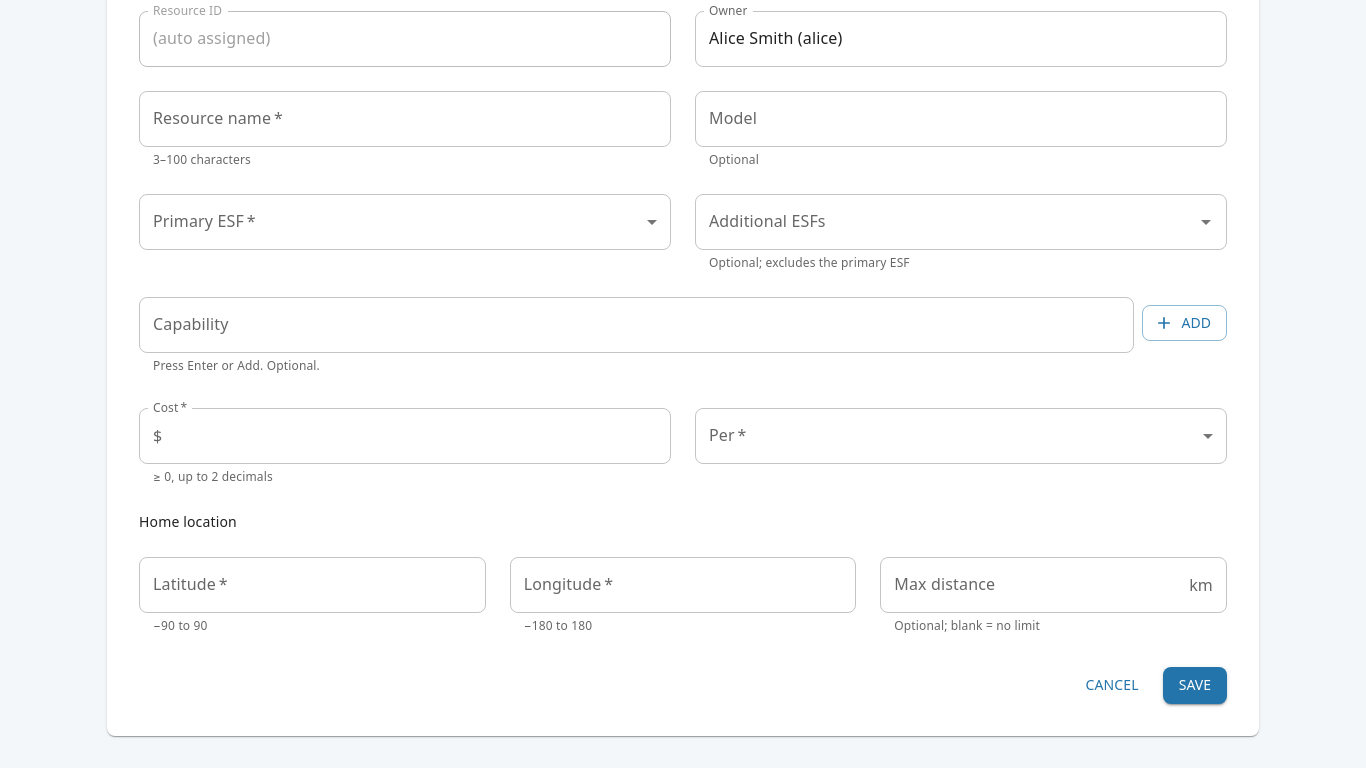
Test: AddResourcePage › validates required fields
The width and height of the screenshot is (1366, 768).
(page scrolled)
Expected: the field labelled "Owner" is shown, 695,11 -> 1227,67
Click the button "Save" at (1195,686), box 1163,668 -> 1227,704
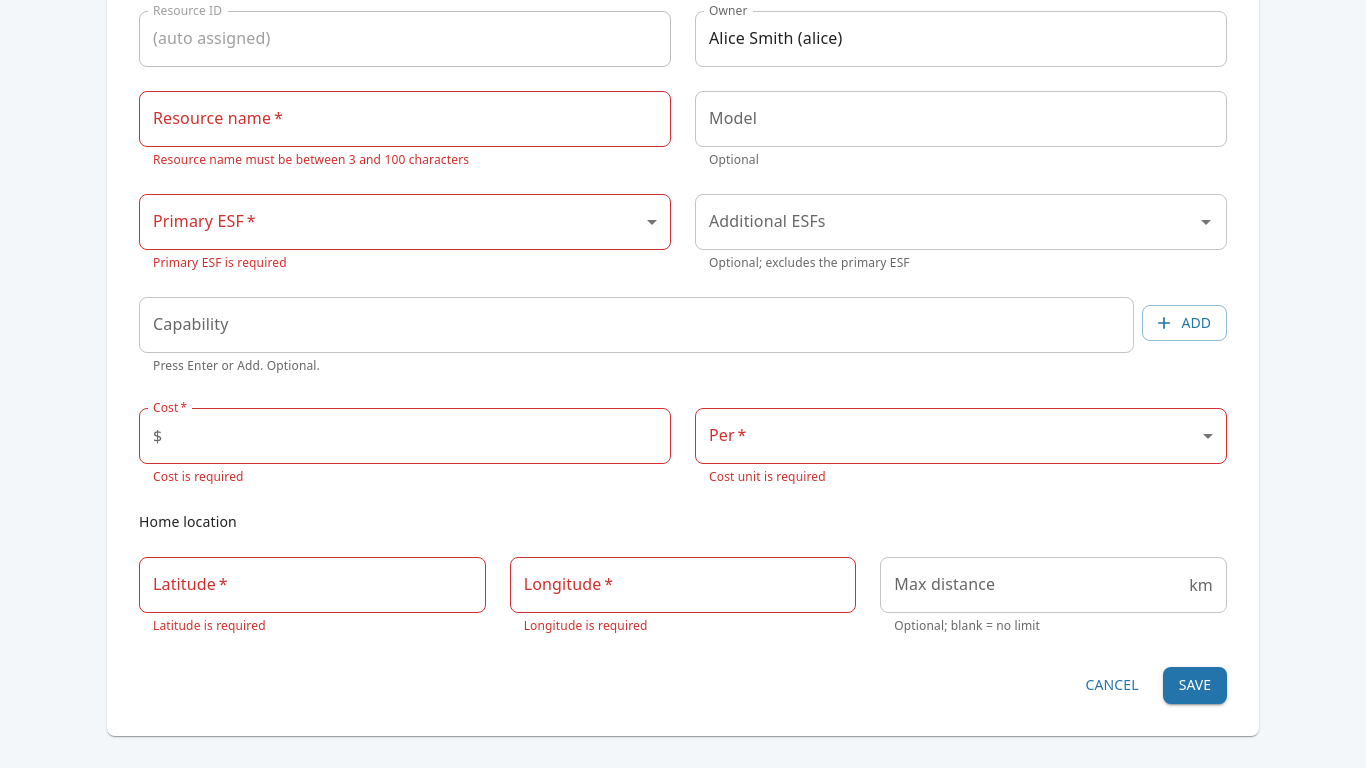
Now the text "Resource name must be between 3 and 100 characters" is shown, box 153,151 -> 469,168
Now the text "Primary ESF is required" is shown, box 153,254 -> 287,271
Now the text "Cost is required" is shown, box 153,468 -> 244,485
